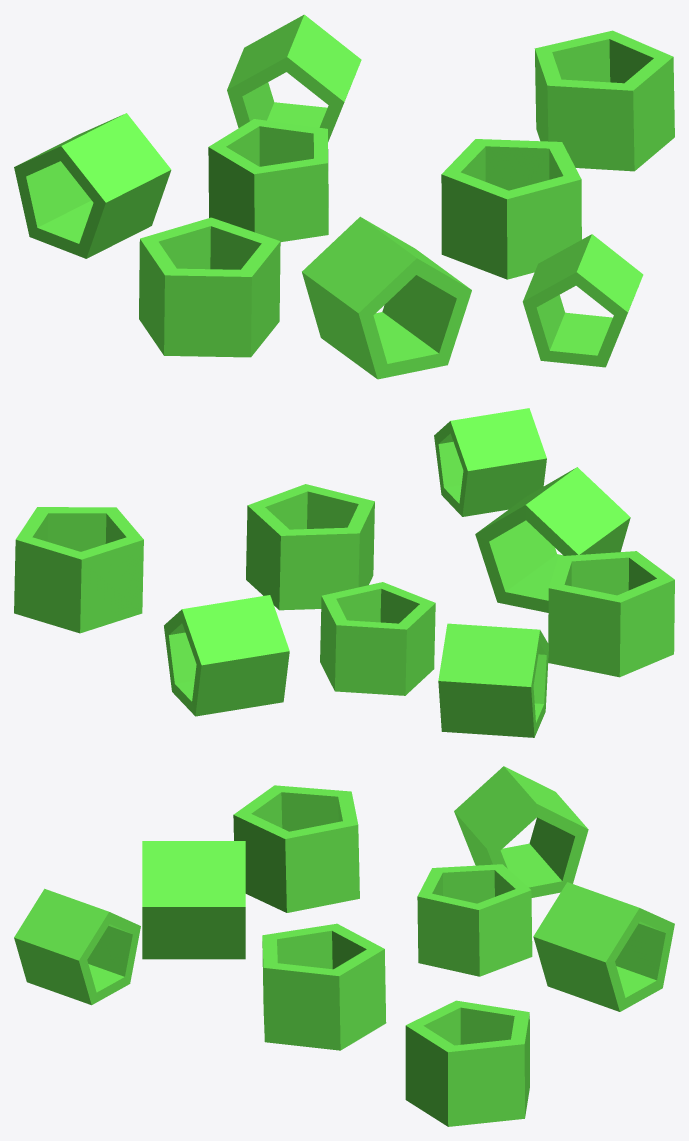
File: chives04.obj
3 views of the same model, one above another, from view 1: azimuth 30°, elevation 25°; view 2: azimuth 150°, elevation 25°; view 3: azimuth 270°, elevation 25° (orthographic). The views are drawn at different scales.
Visible parts, largest first — view 1: Cylinder.002; view 2: Cylinder.002; view 3: Cylinder.002.
Part boxes in pixels (x1,y1,x2,y2): Cylinder.002: [14, 14, 674, 379]; Cylinder.002: [14, 408, 674, 737]; Cylinder.002: [14, 766, 674, 1126].
Size of the model in its own units: 0.0255 by 0.00482 by 0.0264.
Materials: 1 (1 with a texture image).
